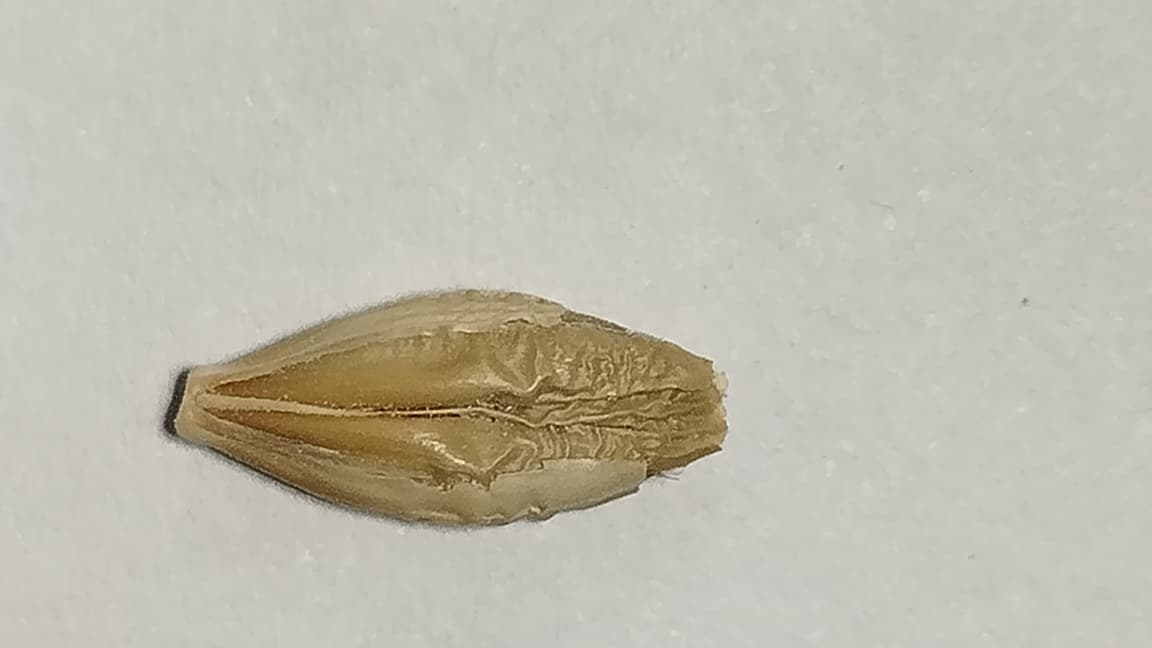healthy-70-60: (175, 289, 725, 522)
shriveledseed: (477, 309, 709, 478)
